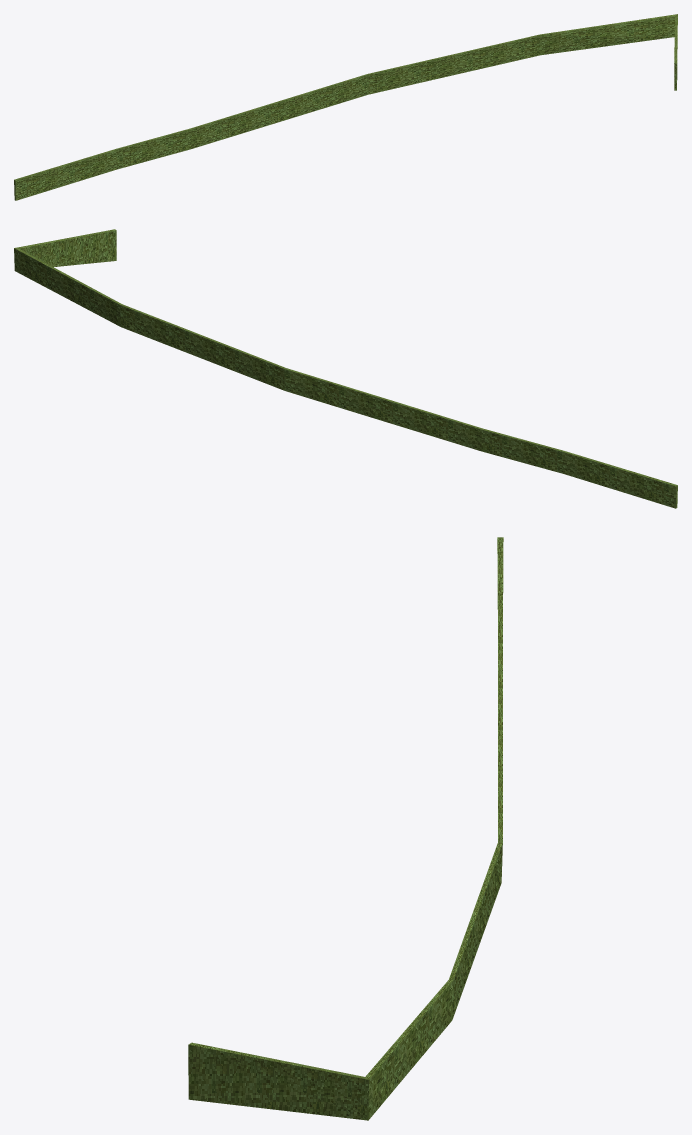
Rendered from lodge09_sfn_cm.obj.
3 views of the same model, one above another, from view 1: azimuth 30°, elevation 25°; view 2: azimuth 150°, elevation 25°; view 3: azimuth 270°, elevation 25° (orthographic). The views are drawn at different scales.
Parts seen in each view (by area): view 1: LODge09_SFN_CM; view 2: LODge09_SFN_CM; view 3: LODge09_SFN_CM.
Boxes of the visible parts, x1=… form: LODge09_SFN_CM: x1=14, y1=14, x2=677, y2=200; LODge09_SFN_CM: x1=14, y1=229, x2=677, y2=508; LODge09_SFN_CM: x1=188, y1=537, x2=503, y2=1120.
Size of the model in its own units: 71.24 by 6.13 by 15.42.
Materials: 1 (1 with a texture image).
